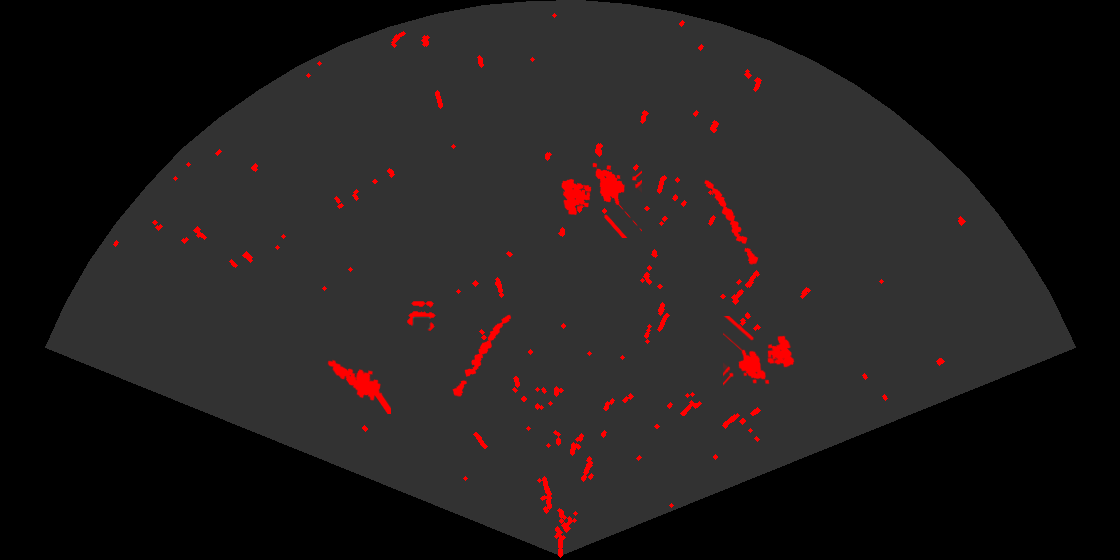ball: (406, 300, 437, 332)
cage: (560, 161, 642, 238), (723, 316, 796, 387)
chain: (451, 313, 513, 399), (703, 179, 760, 266)
frogman: (326, 358, 391, 414)
